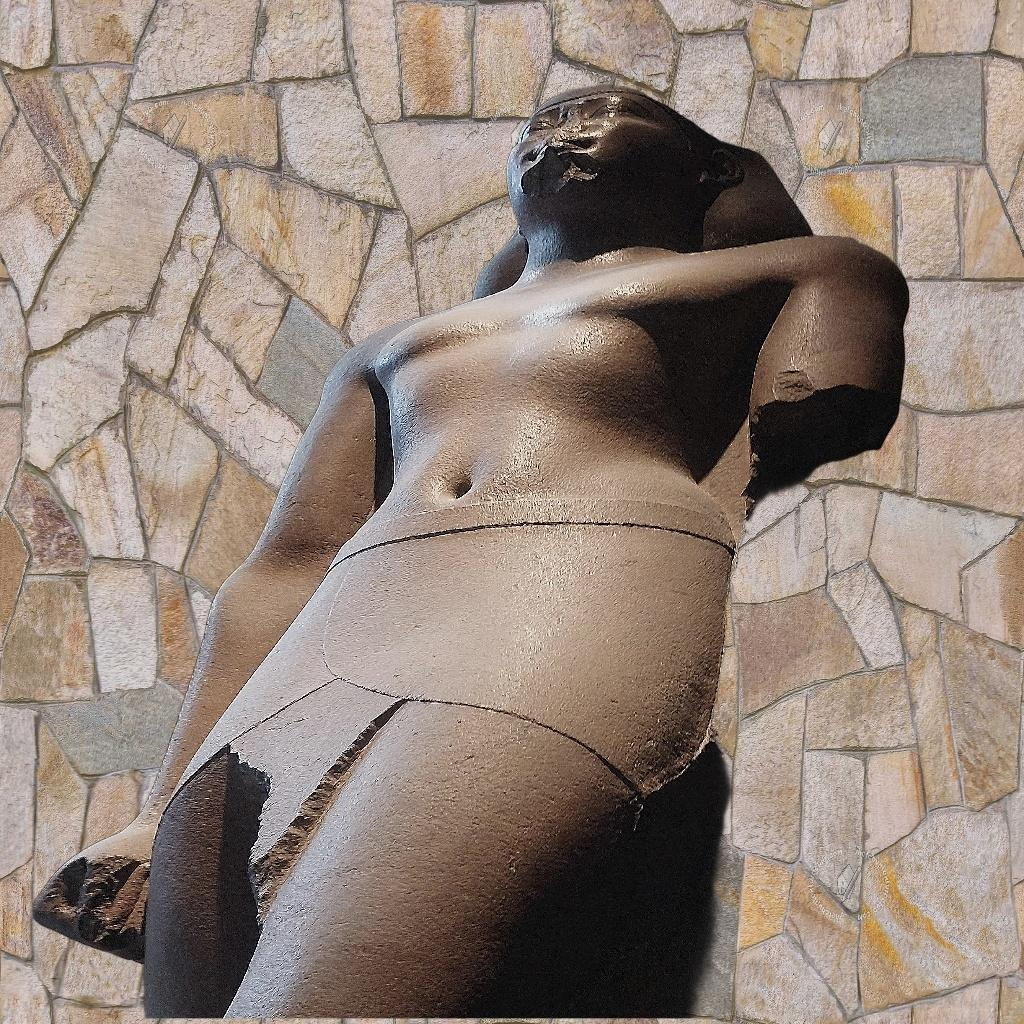Colossal Statue of Hormoheb: (32, 78, 920, 1018)
